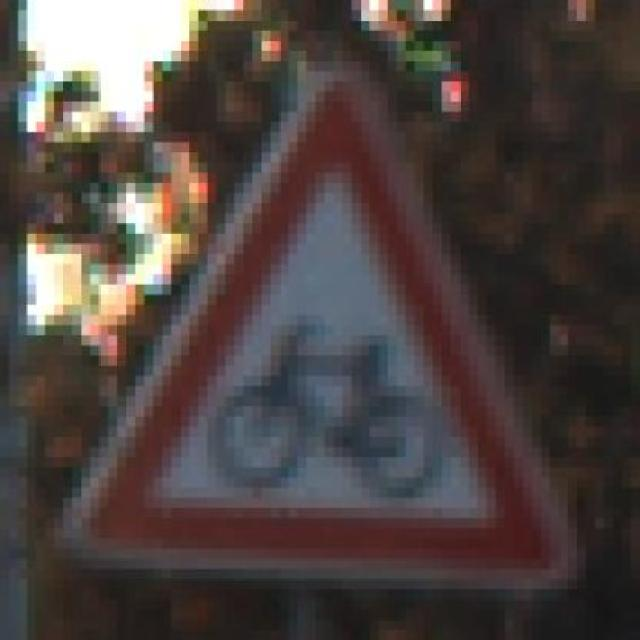CYCLE ROUTE AHEAD WARNING: (54, 51, 586, 609)
